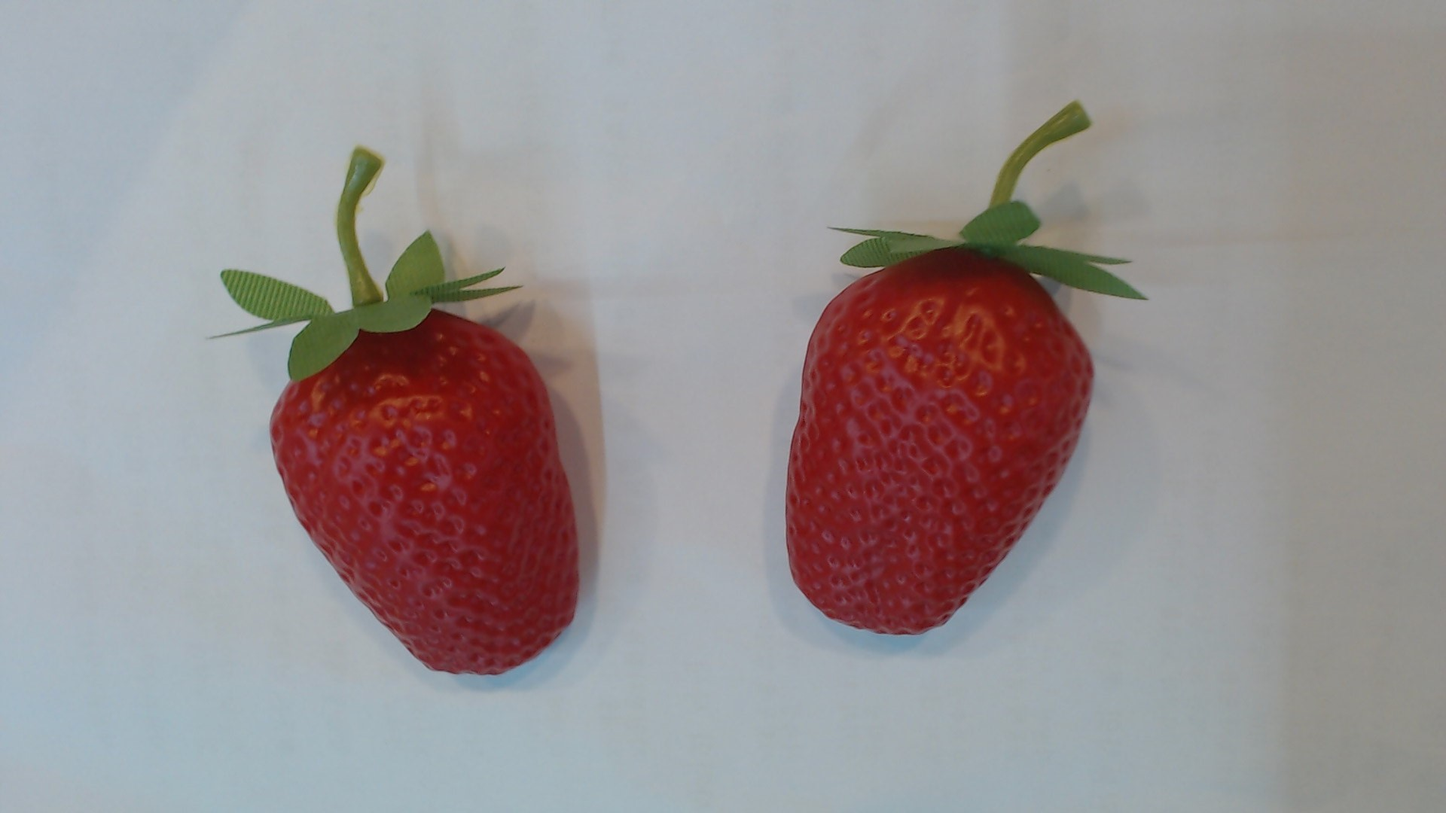strawberry: (764, 226, 1100, 640), (247, 295, 595, 682)
